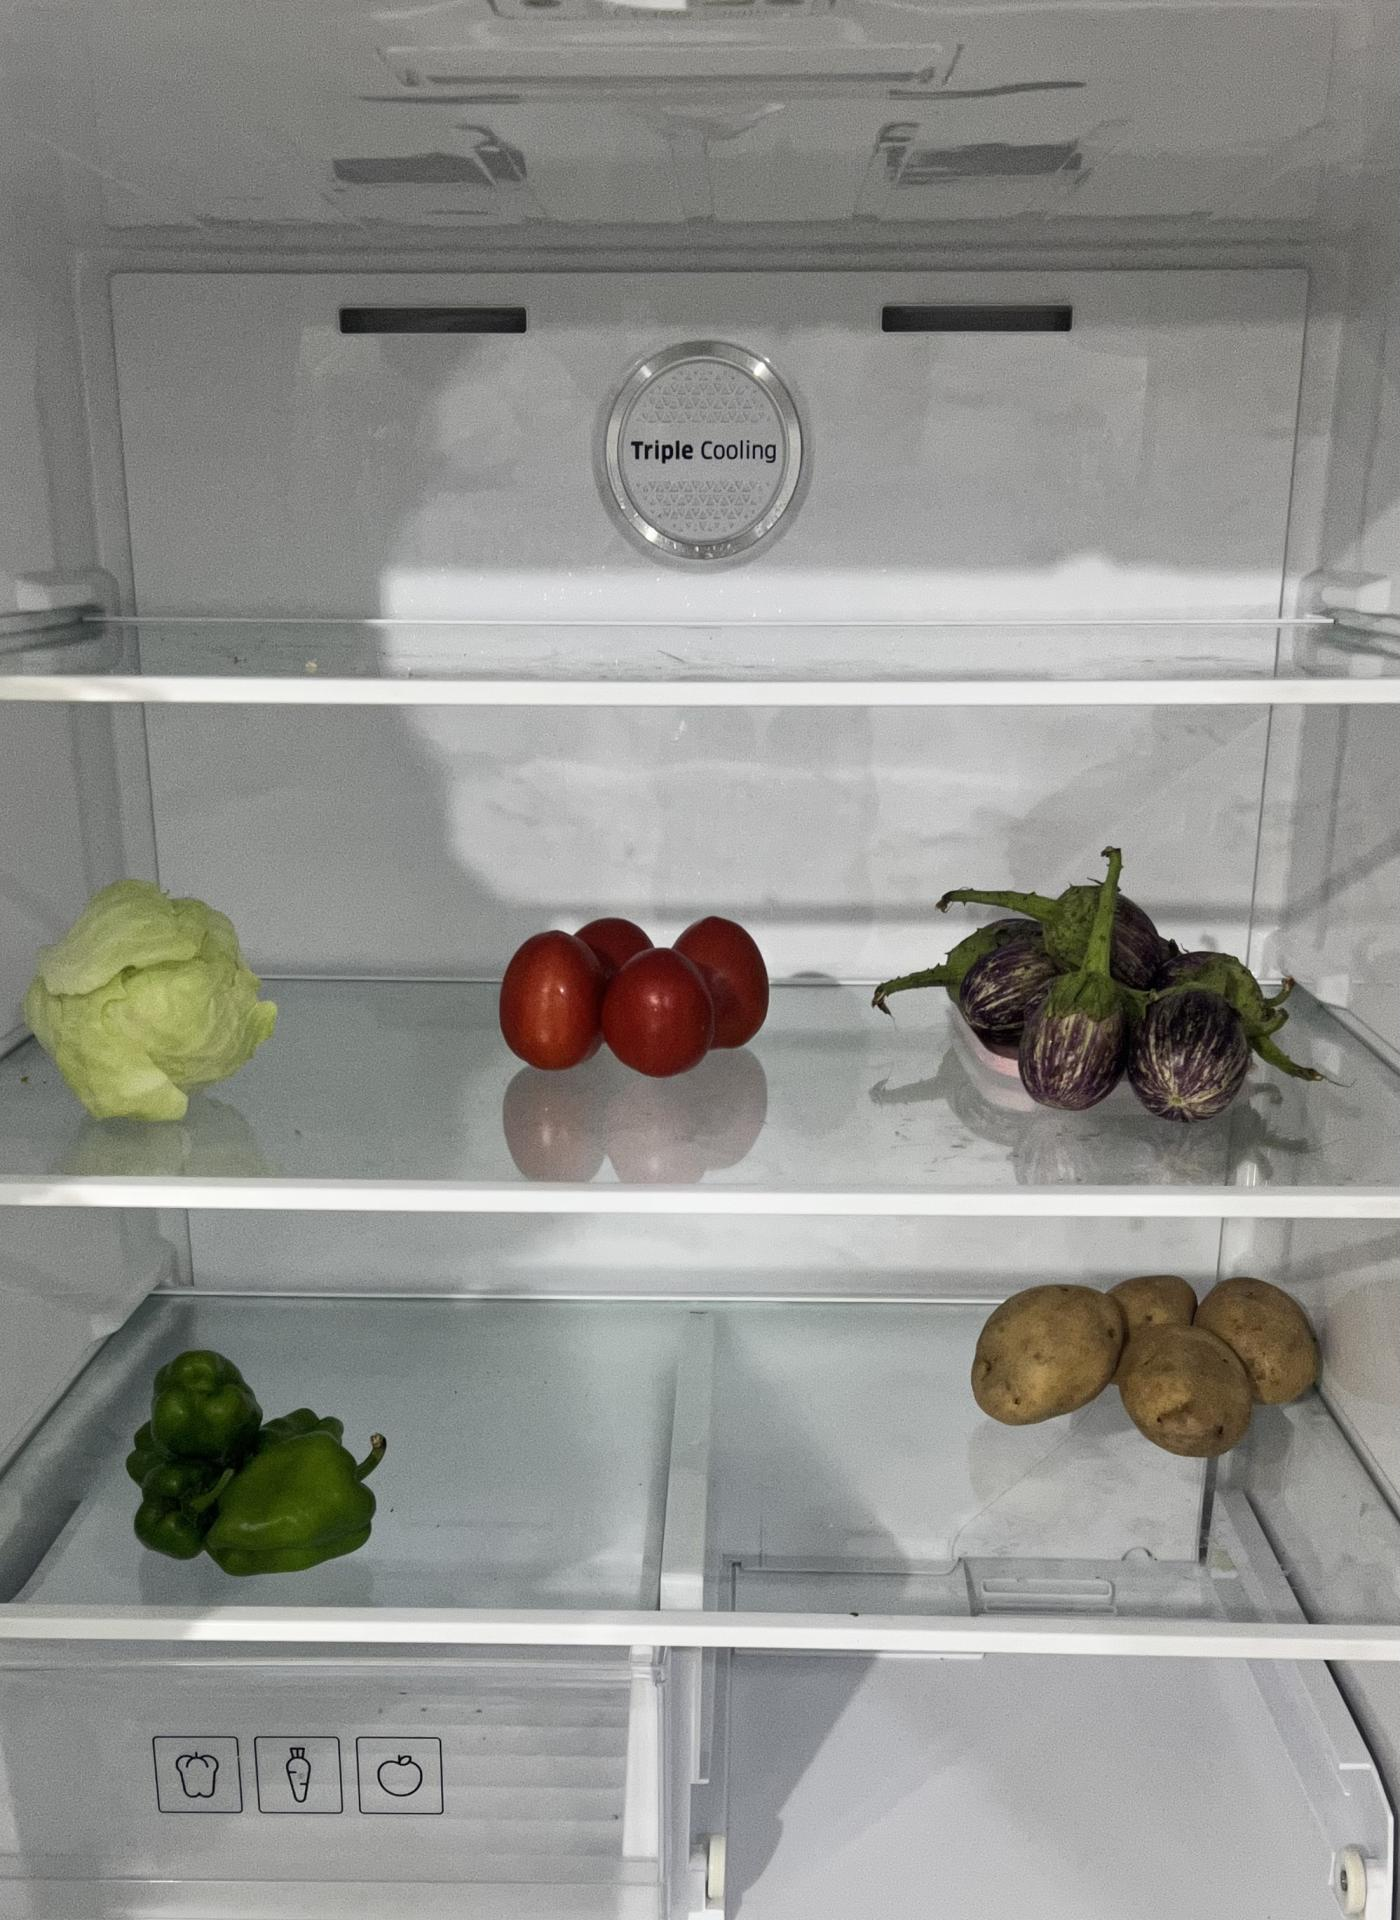brinjal: (942, 863, 1299, 1127)
cabbage: (30, 885, 280, 1128)
capsicum: (133, 1354, 386, 1574)
potato: (974, 1270, 1328, 1453)
tomato: (501, 914, 772, 1078)
